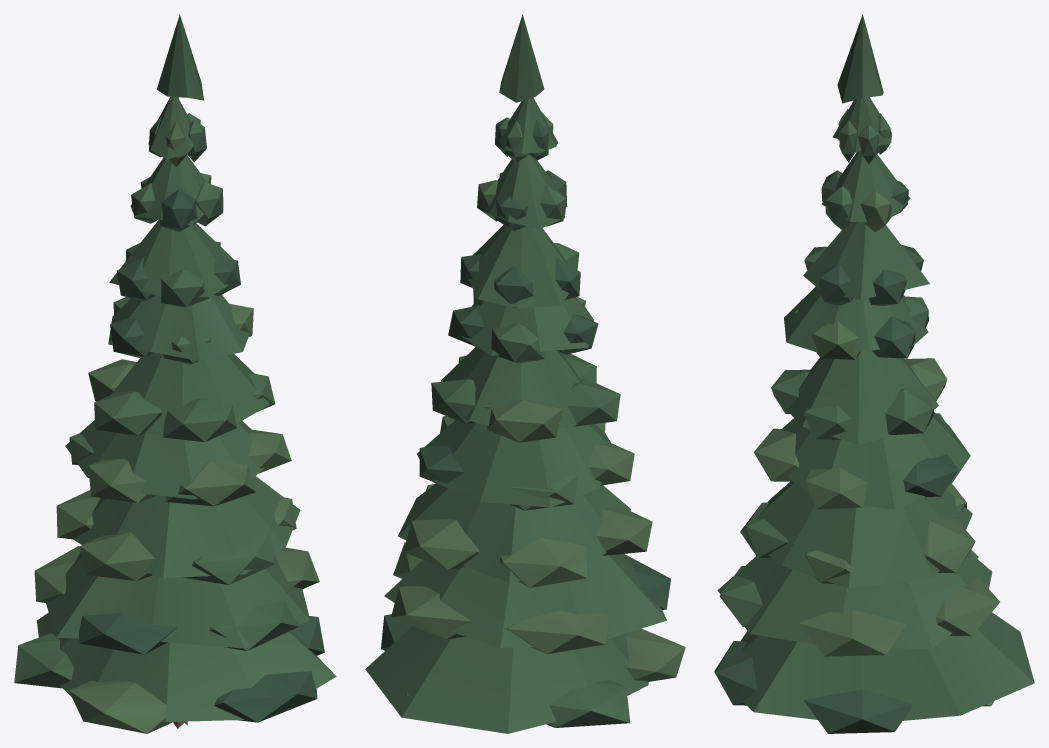
The model's file is FirMature.glb.
3 renders of one model, left to right at view 1: azimuth 30°, elevation 25°; view 2: azimuth 150°, elevation 25°; view 3: azimuth 270°, elevation 25°, orthographic.
Parts seen in each view (by area): view 1: FirMatureVisual; view 2: FirMatureVisual; view 3: FirMatureVisual.
Part boxes in pixels (left/top/right/bottom): FirMatureVisual: left=14, top=14, right=336, bottom=733; FirMatureVisual: left=365, top=14, right=685, bottom=733; FirMatureVisual: left=714, top=14, right=1034, bottom=733.
Size of what is drawn, in the model's own units: 6.69 by 16.48 by 6.73.
